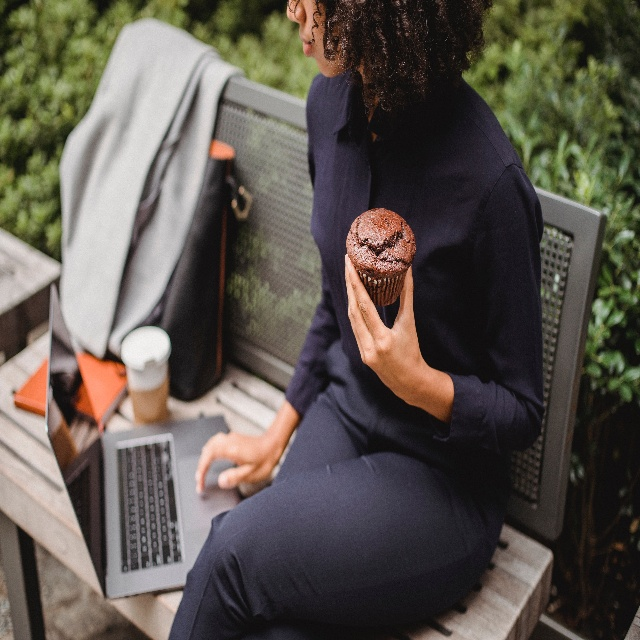Sin_guantes: (344, 251, 423, 402), (197, 430, 277, 492)
